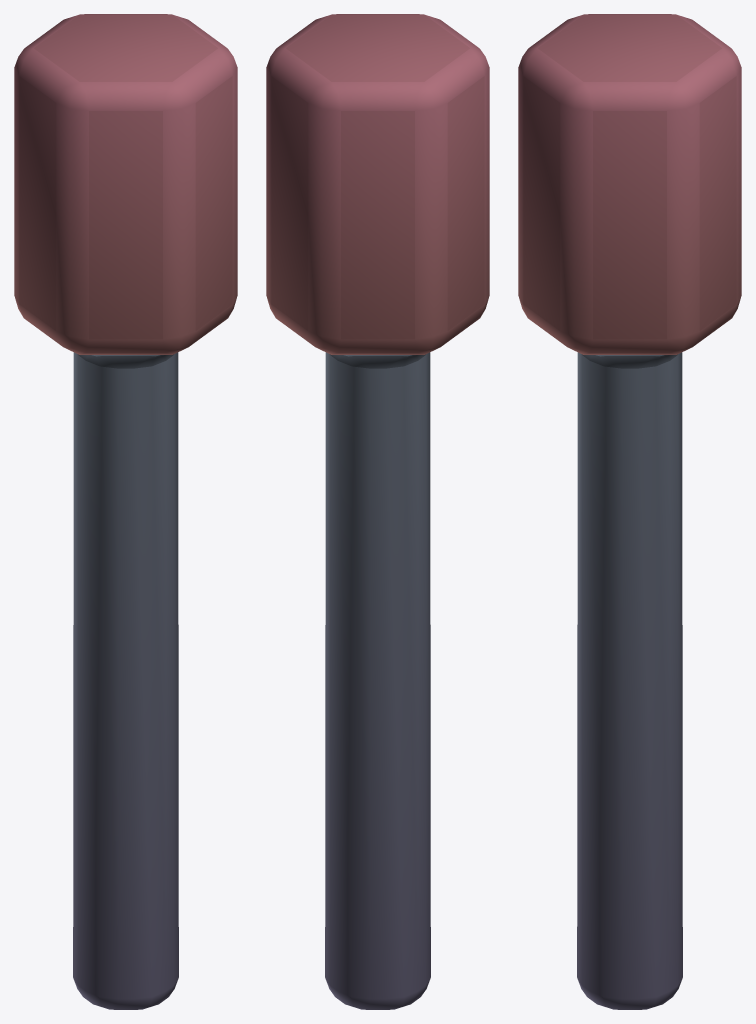
Rendered from lever.fbx.
The picture shows the model from 3 angles, left to right: view 1: azimuth 30°, elevation 25°; view 2: azimuth 150°, elevation 25°; view 3: azimuth 270°, elevation 25°; orthographic projection.
Visible parts, largest first — view 1: Lever; view 2: Lever; view 3: Lever.
Boxes of the visible parts, x1,y1,x2,y2 form: Lever: [14, 14, 237, 1009]; Lever: [266, 14, 489, 1009]; Lever: [518, 14, 741, 1009].
Bounding box in the file's own units: 46.88 × 241 × 51.52.
